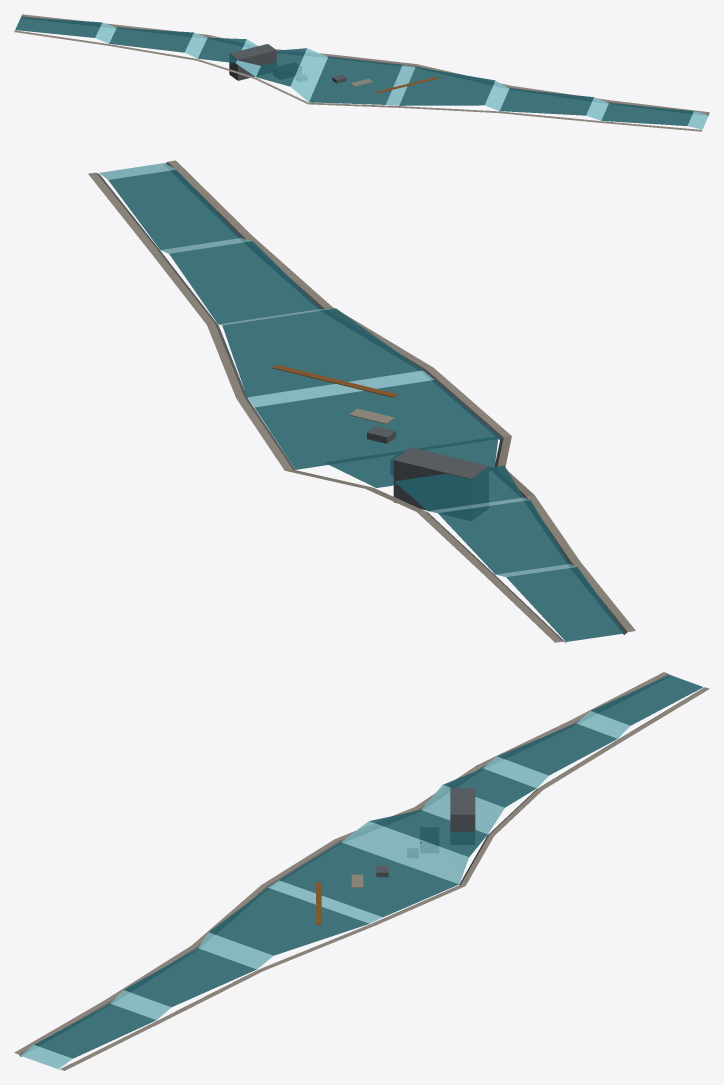
Rendered from water_thac_hang_cop_xuan_tho.glb.
3 views of the same model, one above another, from view 1: azimuth 30°, elevation 25°; view 2: azimuth 150°, elevation 25°; view 3: azimuth 270°, elevation 25° (orthographic). The views are drawn at different scales.
Parts seen in each view (by area): view 1: water_terraces_water_thac_hang_cop_xuan_tho, waterfall_curtain_water_thac_hang_cop_xuan_tho, canyon_walkway_water_thac_hang_cop_xuan_tho, hang_cop_main_basalt_waterfall_cliff, basalt_canyon_embankments_water_thac_hang_cop_xuan_tho; view 2: water_terraces_water_thac_hang_cop_xuan_tho, canyon_walkway_water_thac_hang_cop_xuan_tho, waterfall_curtain_water_thac_hang_cop_xuan_tho, hang_cop_main_basalt_waterfall_cliff, basalt_canyon_embankments_water_thac_hang_cop_xuan_tho; view 3: water_terraces_water_thac_hang_cop_xuan_tho, waterfall_curtain_water_thac_hang_cop_xuan_tho, canyon_walkway_water_thac_hang_cop_xuan_tho, hang_cop_main_basalt_waterfall_cliff, basalt_canyon_embankments_water_thac_hang_cop_xuan_tho.
Boxes of the visible parts, <box> form: water_terraces_water_thac_hang_cop_xuan_tho: <box>15,17,693,125</box>; waterfall_curtain_water_thac_hang_cop_xuan_tho: <box>95,22,708,129</box>; canyon_walkway_water_thac_hang_cop_xuan_tho: <box>14,14,709,131</box>; hang_cop_main_basalt_waterfall_cliff: <box>229,44,276,80</box>; basalt_canyon_embankments_water_thac_hang_cop_xuan_tho: <box>21,16,708,115</box>; water_terraces_water_thac_hang_cop_xuan_tho: <box>108,170,624,641</box>; canyon_walkway_water_thac_hang_cop_xuan_tho: <box>88,160,635,642</box>; waterfall_curtain_water_thac_hang_cop_xuan_tho: <box>99,163,576,576</box>; hang_cop_main_basalt_waterfall_cliff: <box>393,447,488,510</box>; basalt_canyon_embankments_water_thac_hang_cop_xuan_tho: <box>97,162,627,642</box>; water_terraces_water_thac_hang_cop_xuan_tho: <box>34,675,703,1058</box>; waterfall_curtain_water_thac_hang_cop_xuan_tho: <box>20,711,630,1069</box>; canyon_walkway_water_thac_hang_cop_xuan_tho: <box>14,672,709,1070</box>; hang_cop_main_basalt_waterfall_cliff: <box>450,788,475,831</box>; basalt_canyon_embankments_water_thac_hang_cop_xuan_tho: <box>19,674,702,1056</box>.
Size of the model in its own units: 575 by 51.45 by 503.
